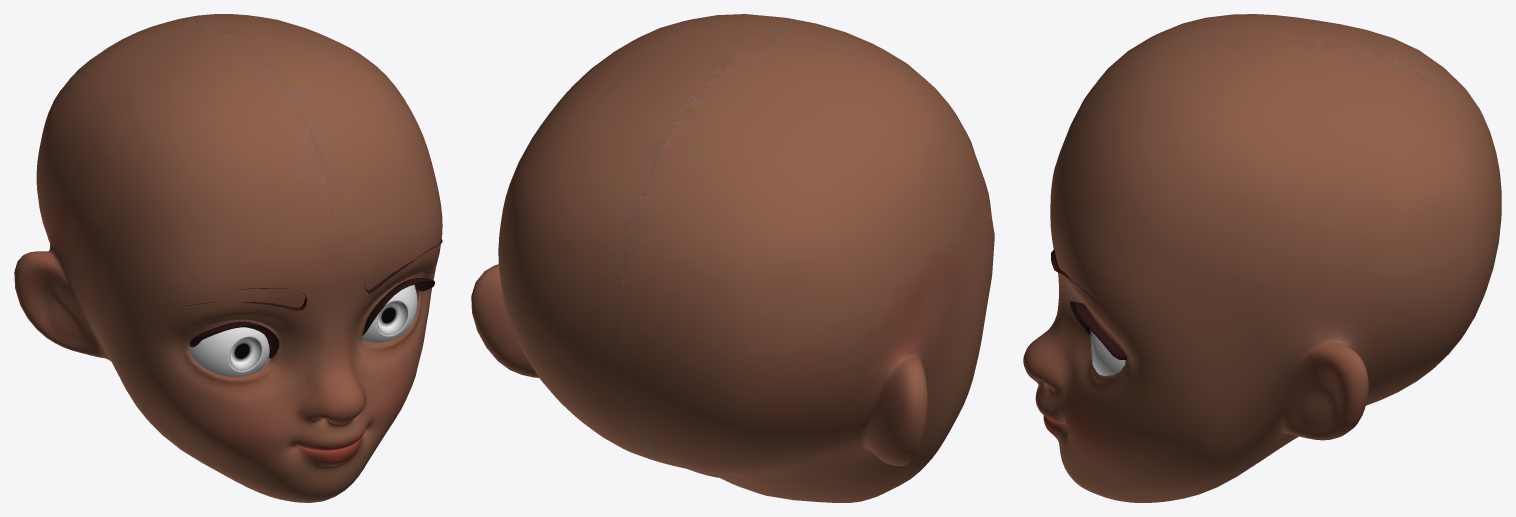
3 views of the same model, side by side, from view 1: azimuth 30°, elevation 25°; view 2: azimuth 150°, elevation 25°; view 3: azimuth 270°, elevation 25° (orthographic). The views are drawn at different scales.
Parts seen in each view (by area): view 1: skin, eyes, lashes, brows; view 2: skin; view 3: skin, lashes, eyes.
Part boxes in pixels (x1,y1,x2,y2): skin: (14,14,442,502); eyes: (189,285,417,377); lashes: (189,278,434,358); brows: (182,238,442,310); skin: (471,14,994,502); skin: (1023,14,1501,502); lashes: (1070,301,1126,359); eyes: (1090,330,1125,375).
Size of the model in its own units: 1.9 by 2 by 1.92.
9 materials, 2 textured.
